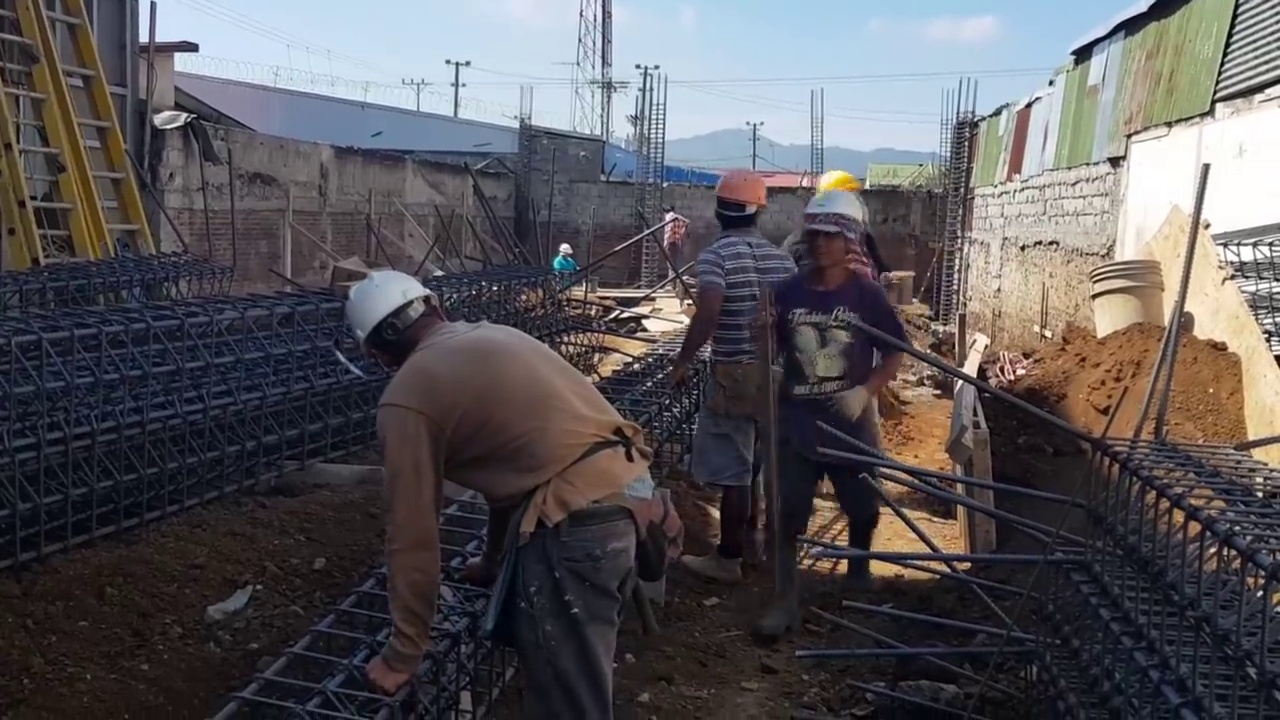helmet: (339, 271, 431, 357), (805, 192, 864, 238), (712, 171, 767, 216), (814, 170, 865, 194), (559, 244, 574, 255)
helmet-off: (661, 201, 678, 218)
helmet-on: (338, 272, 457, 374), (802, 192, 861, 290), (714, 169, 768, 241), (558, 243, 575, 261)
person: (335, 269, 670, 717), (770, 166, 918, 598), (679, 176, 782, 568), (661, 202, 688, 277), (553, 240, 578, 281)
